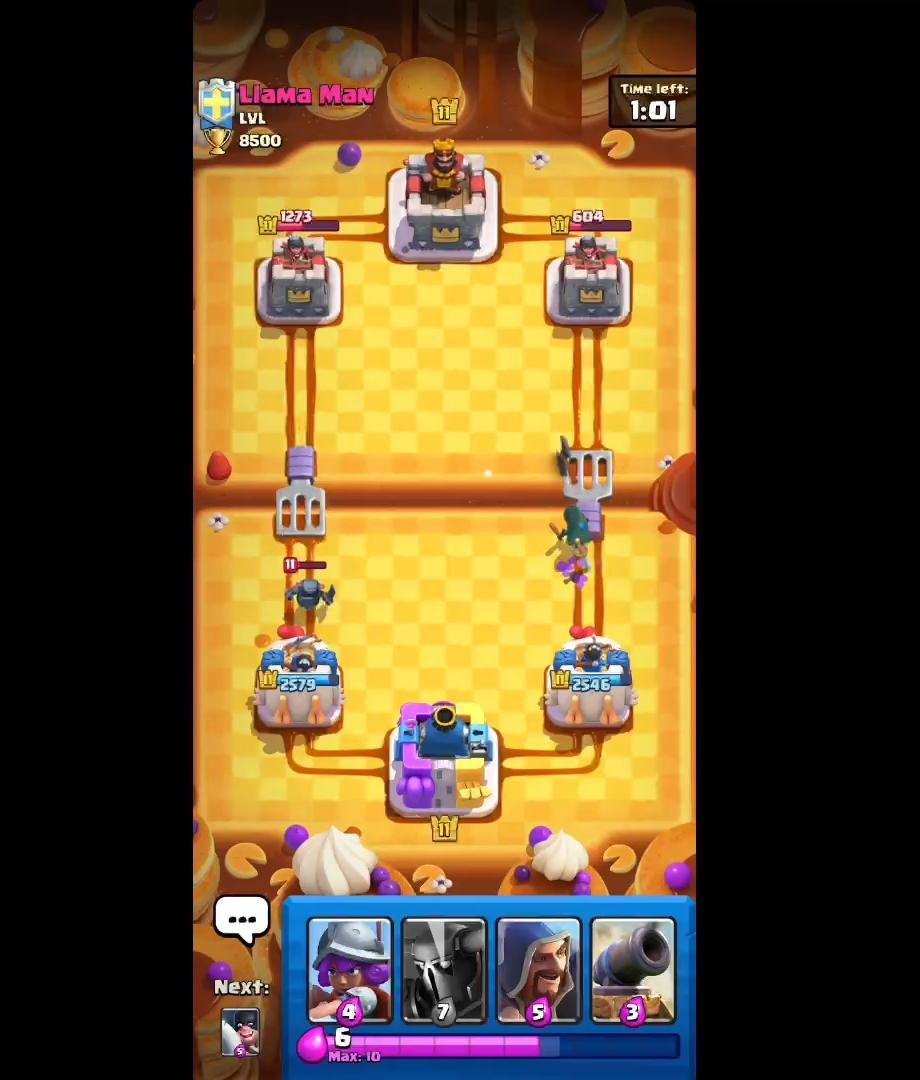Mini Pekka: (272, 555, 349, 628)
